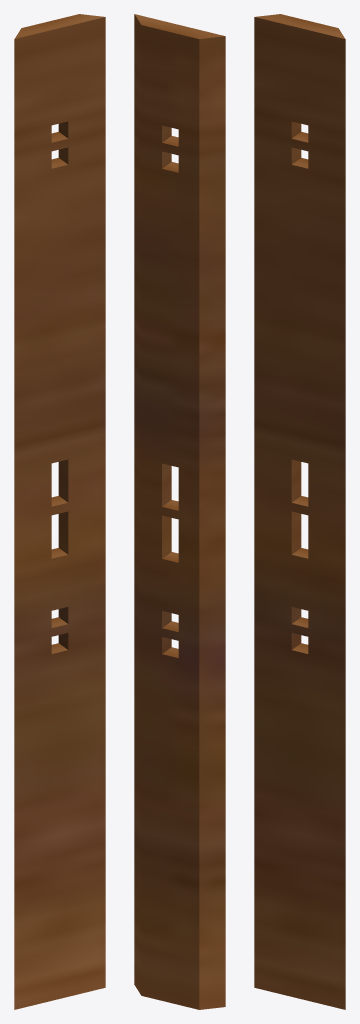
Rendered from original-49.obj.
The picture shows the model from 3 angles, left to right: view 1: azimuth 30°, elevation 25°; view 2: azimuth 150°, elevation 25°; view 3: azimuth 330°, elevation 25°; orthographic projection.
Visible parts, largest first — view 1: Leg_pt1/Leg_pt/mesh60/mesh60-geometry#mesh60-geometry; view 2: Leg_pt1/Leg_pt/mesh60/mesh60-geometry#mesh60-geometry; view 3: Leg_pt1/Leg_pt/mesh60/mesh60-geometry#mesh60-geometry.
Boxes of the visible parts, bbox=[...] form: Leg_pt1/Leg_pt/mesh60/mesh60-geometry#mesh60-geometry: bbox=[14, 14, 105, 1009]; Leg_pt1/Leg_pt/mesh60/mesh60-geometry#mesh60-geometry: bbox=[134, 14, 225, 1009]; Leg_pt1/Leg_pt/mesh60/mesh60-geometry#mesh60-geometry: bbox=[254, 14, 345, 1009].
Size of the model in its own units: 0.0931 by 0.9476 by 0.0169.
